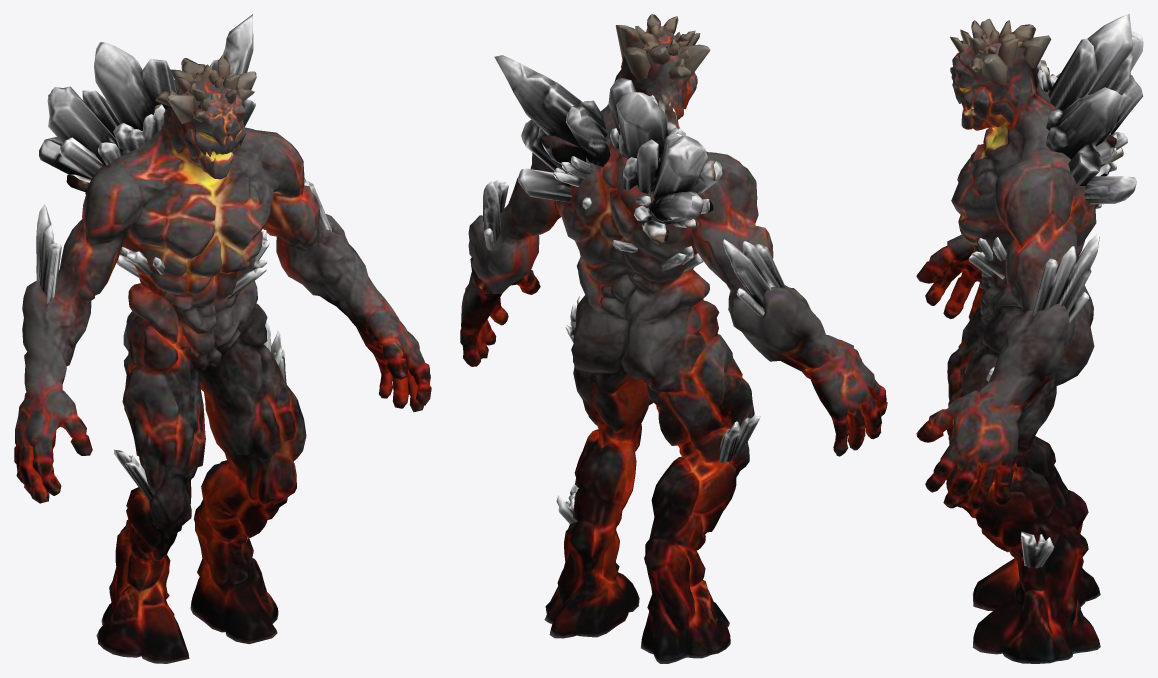
The model's file is 199-titanatlantean.glb.
3 renders of one model, left to right at view 1: azimuth 30°, elevation 25°; view 2: azimuth 150°, elevation 25°; view 3: azimuth 270°, elevation 25°, orthographic. The views are drawn at different scales.
Bounding box in the file's own units: 7.79 × 10.69 × 3.69.
1 material, 1 textured.
